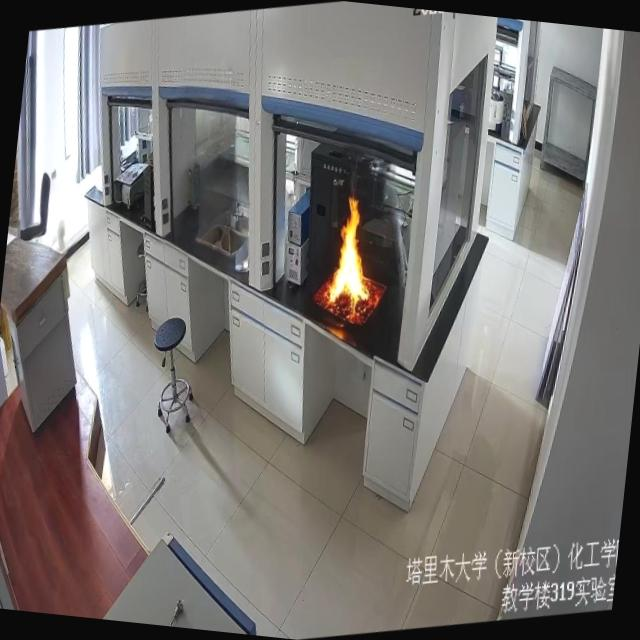fire: (306, 160, 393, 330)
